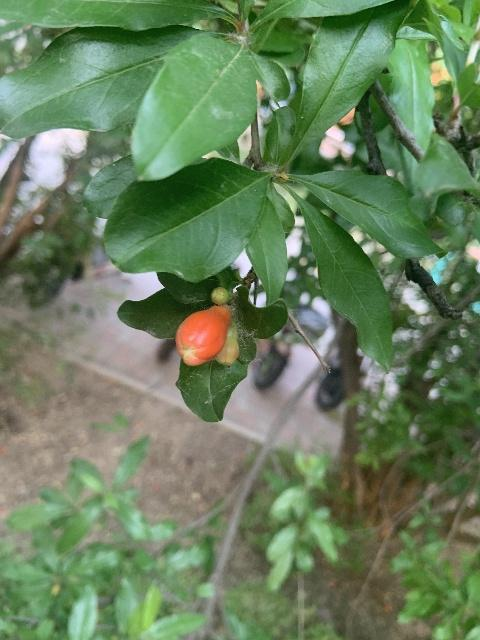bud: (175, 305, 230, 367), (215, 328, 240, 366), (210, 286, 230, 304)
